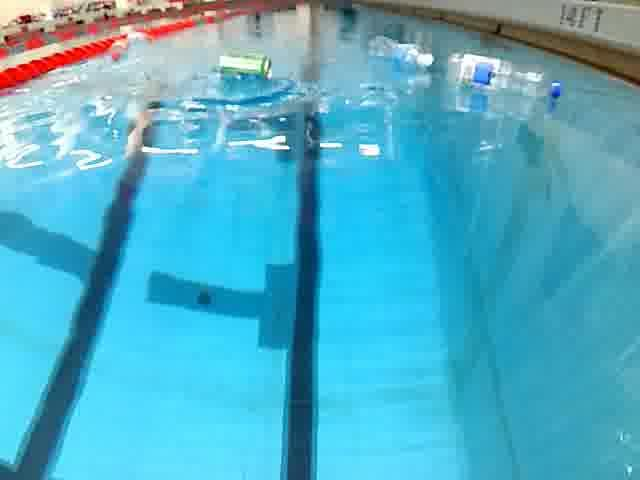Bottle: (440, 49, 570, 107), (362, 30, 438, 74)
Can: (210, 48, 276, 86)
